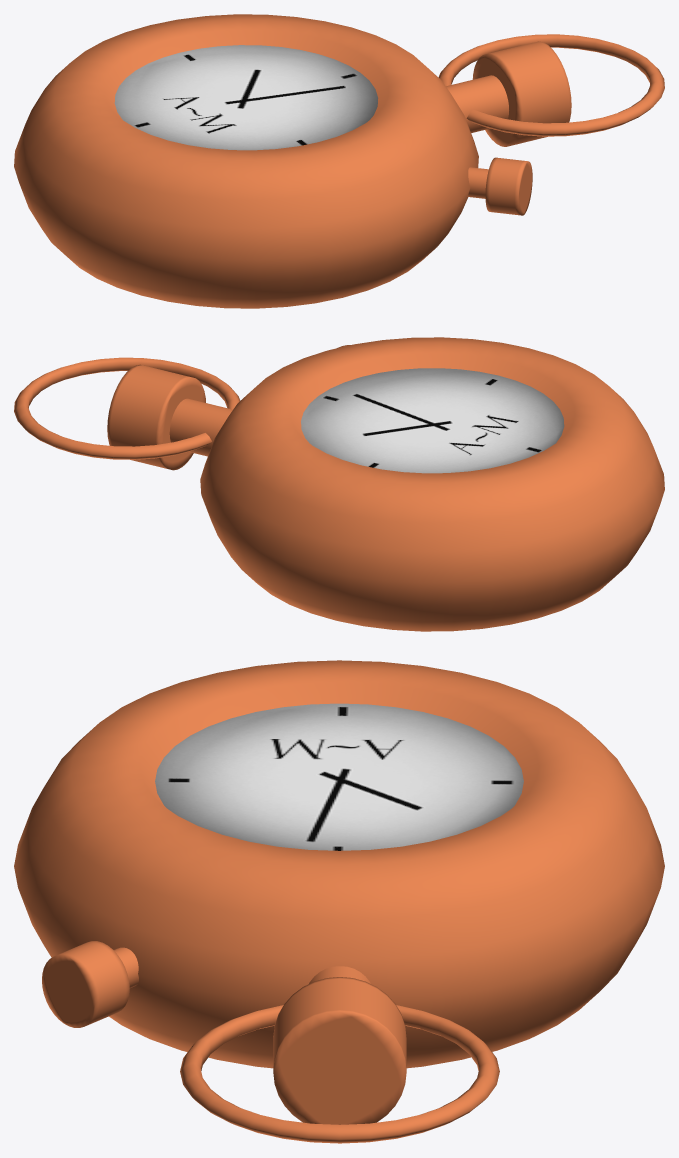
The model's file is StopWatch.fbx.
The picture shows the model from 3 angles, top to bottom: view 1: azimuth 30°, elevation 25°; view 2: azimuth 150°, elevation 25°; view 3: azimuth 270°, elevation 25°; orthographic projection. The views are drawn at different scales.
Parts seen in each view (by area): view 1: turus; view 2: turus; view 3: turus.
Boxes of the visible parts, x1,y1,x2,y2 form: turus: (14,14,664,308); turus: (14,337,664,631); turus: (14,660,664,1143).
Size of the model in its own units: 452 by 99.64 by 301.
